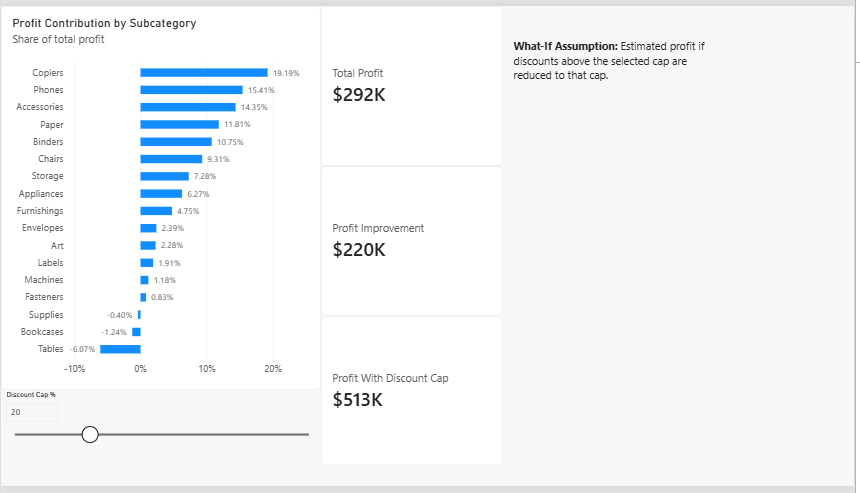

What the dashboard file says about the page in this screenshot:
{"tool":"powerbi","page":{"name":"Contribution & What-If","canvas":[1280,720],"ordinal":2},"visuals":[{"type":"clusteredBarChart","title":"Profit Contribution by Subcategory","fields":{"Category":["orders_clean.SubCategory"],"Y":["orders_clean.Profit Contribution %"]},"box":[0,0,480,576],"z":0},{"type":"slicer","fields":{"Values":["Discount Cap %.Discount Cap %"]},"box":[0,576,480,128],"z":1},{"type":"cardVisual","fields":{"Data":["orders_clean.Profit With Discount Cap"]},"box":[480,464,272,224],"z":2},{"type":"cardVisual","fields":{"Data":["orders_clean.Profit Improvement"]},"box":[480,240,272,224],"z":3},{"type":"cardVisual","fields":{"Data":["orders_clean.Total Profit"]},"box":[480,0,272,240],"z":4},{"type":"textbox","box":[768,48,320,144],"z":5}]}

Visuals, with their boxes in screenshot pixels (x1, y1, x2, y2), scaled from the page's 1280x720 canvas onto the 860x493 screenshot:
"Profit Contribution by Subcategory" clusteredBarChart: <box>0,0,322,394</box>
slicer - Discount Cap %.Discount Cap %: <box>0,394,322,482</box>
cardVisual - orders_clean.Profit With Discount Cap: <box>322,318,505,471</box>
cardVisual - orders_clean.Profit Improvement: <box>322,164,505,318</box>
cardVisual - orders_clean.Total Profit: <box>322,0,505,164</box>
textbox: <box>516,33,731,131</box>
